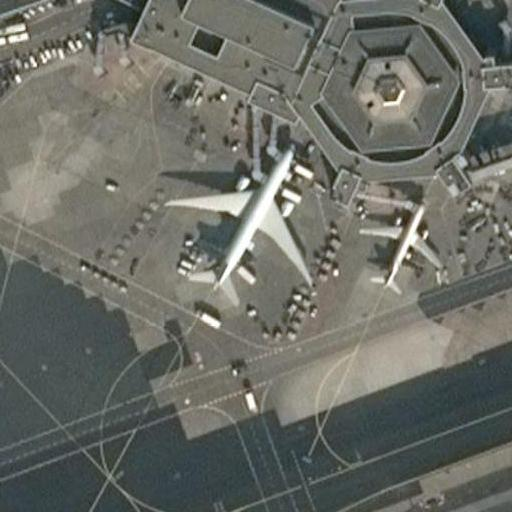Aircraft: (156, 148, 316, 317), (358, 194, 438, 296)
